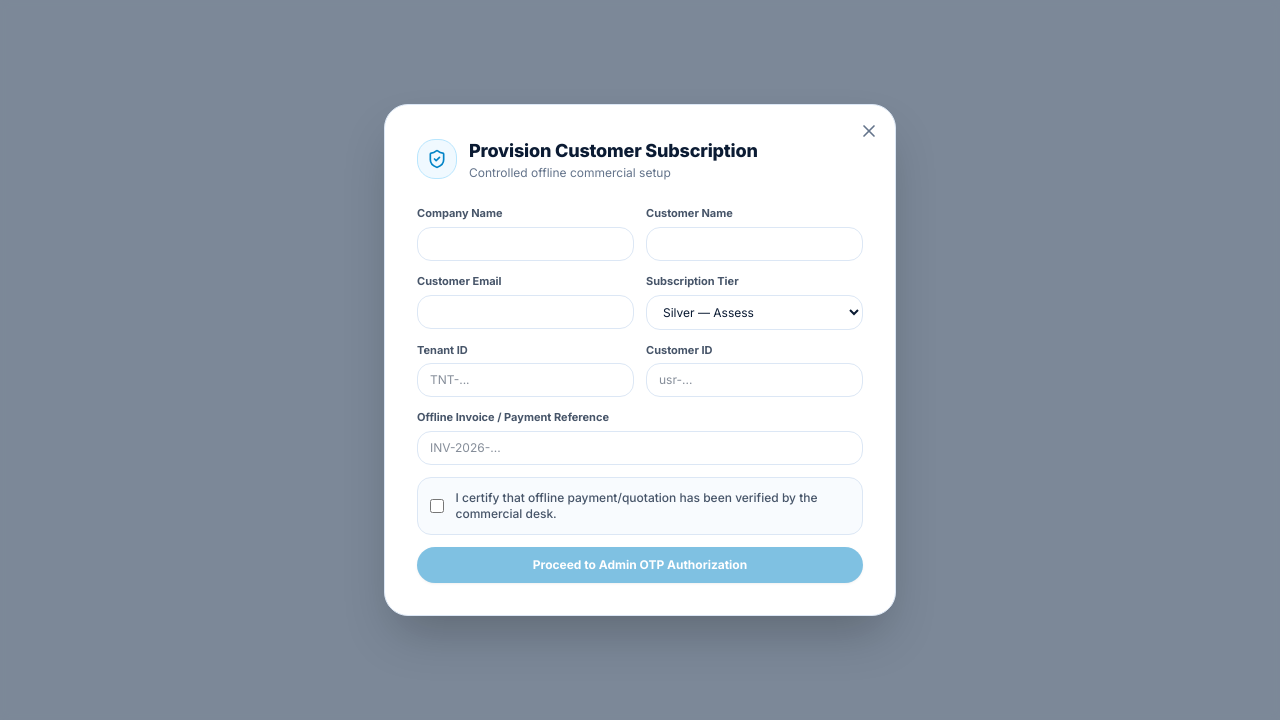
Scenario: ProvisionSubscriptionModal Component › allows returning from OTP step back to DETAILS step
The width and height of the screenshot is (1280, 720).
Click the checkbox at (437, 506), box [430,498,444,514]
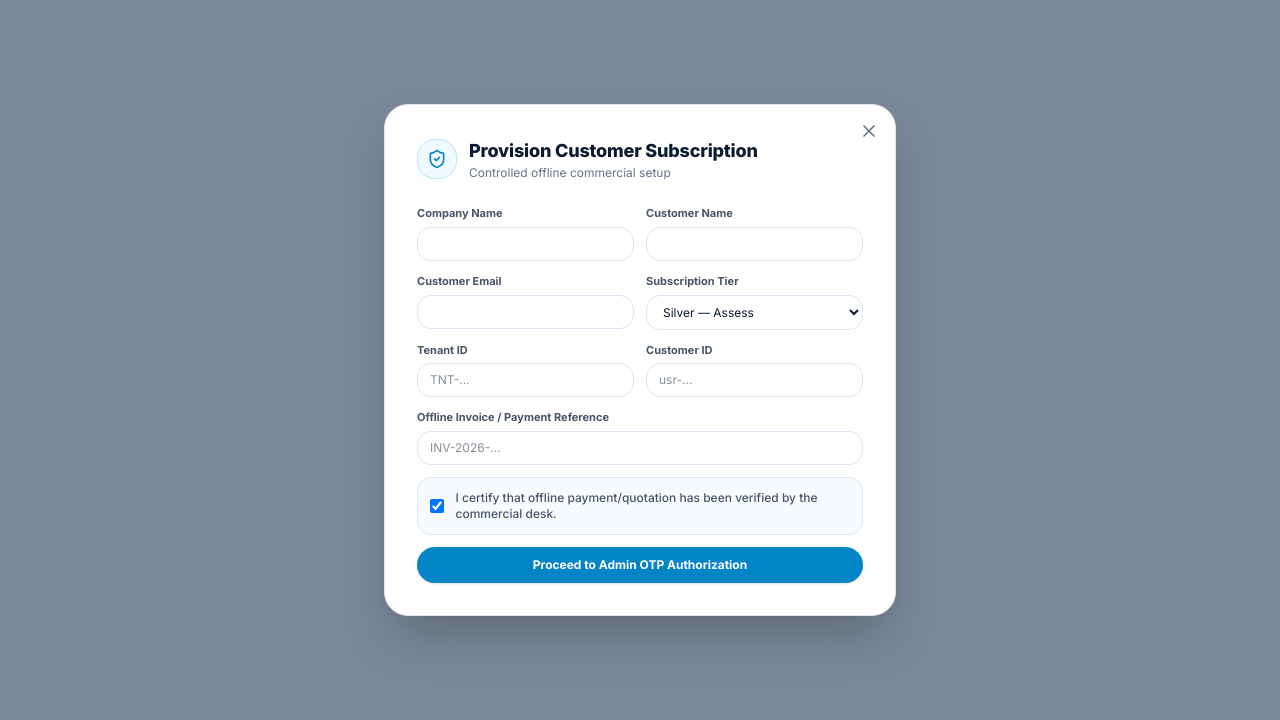
Submit the form with test id "request-admin-otp-btn", box [417,205,863,583]
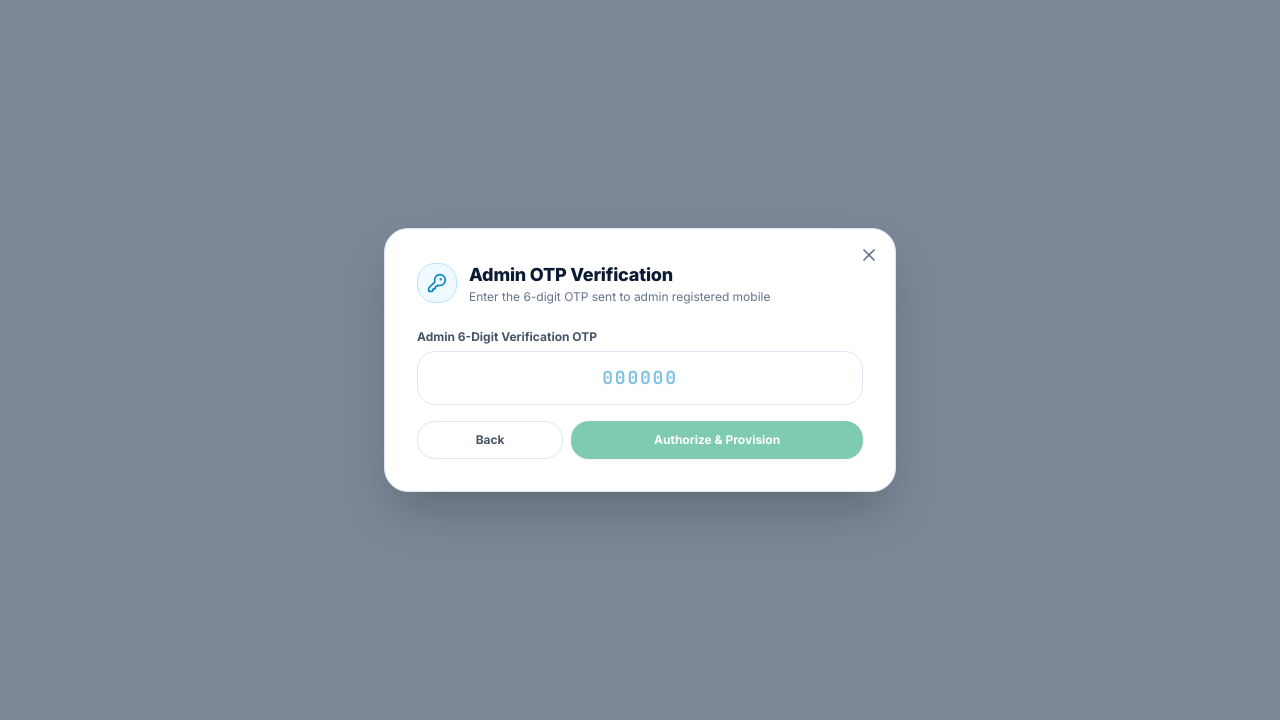
Now the heading "Admin OTP Verification" is shown, box [469,264,673,285]
Click the button "Back" at (490, 440), box [417,421,563,459]
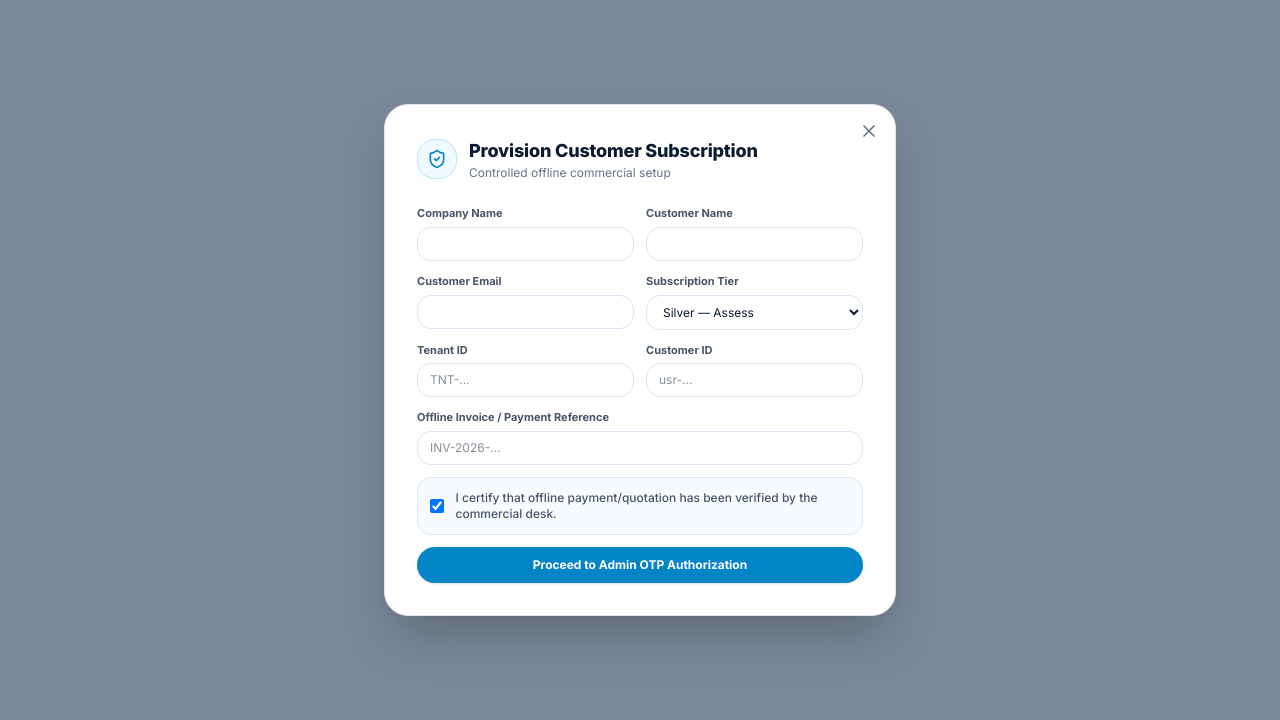
Now the heading "Provision Customer Subscription" is shown, box [469,137,758,165]
